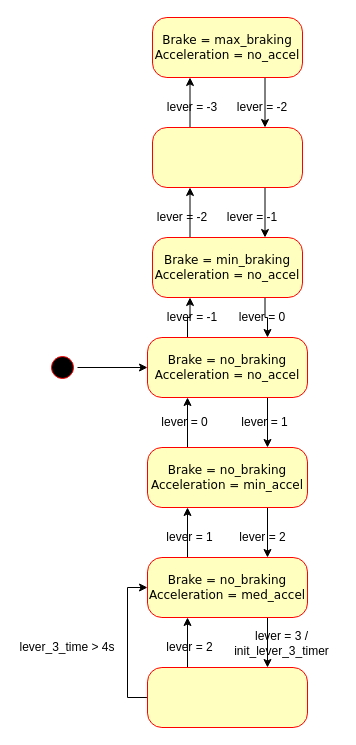
The diagram is 356 pixels wide and 745 high, and some of its shapes have lost their labels. The centre of each missing label's shape, as x and y in pixels:
Brake = med_braking Acceleration = no_accel: point (227, 157)
Brake = no_braking Acceleration = max_accel: point (227, 697)
